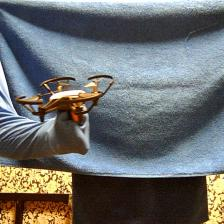drone: (14, 75, 116, 125)
